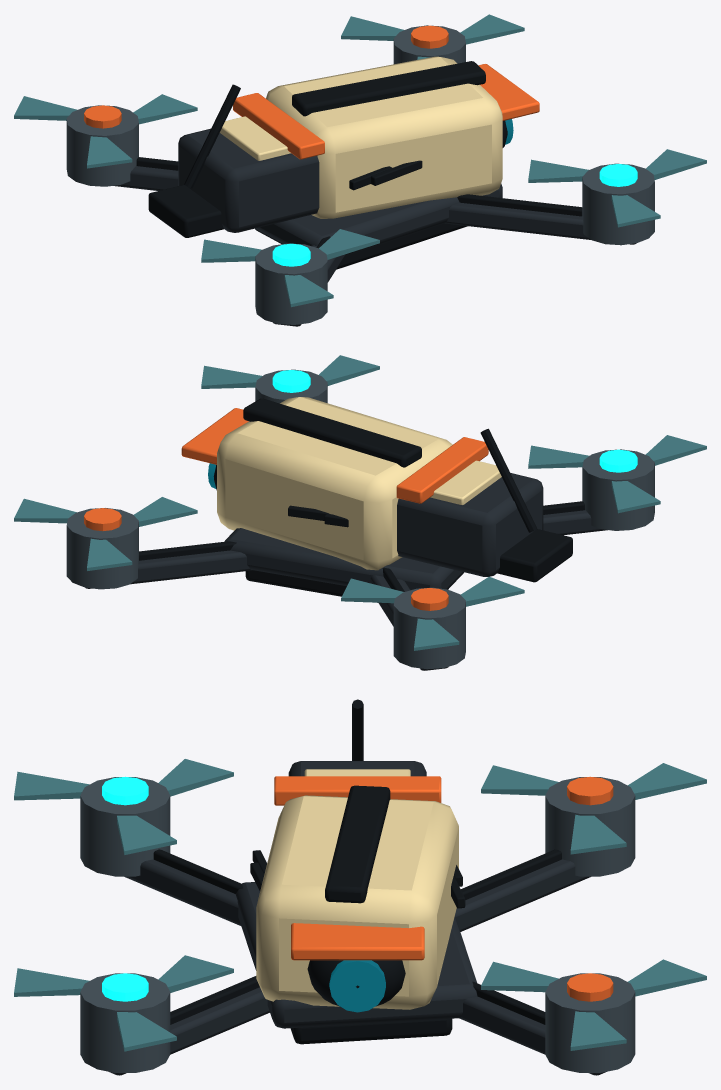
File: neon-quad.glb
3 views of the same model, one above another, from view 1: azimuth 30°, elevation 25°; view 2: azimuth 150°, elevation 25°; view 3: azimuth 270°, elevation 25° (orthographic). The views are drawn at different scales.
Parts seen in each view (by area): view 1: armored_canopy, battery_pack, central_carbon_plate, canopy_black_spine, motor_3, motor_1, motor_2, carbon_arm_1, tail_plate, orange_battery_strap, battery_cream_label, camera_orange_guard (+21 smaller); view 2: armored_canopy, battery_pack, central_carbon_plate, canopy_black_spine, motor_2, motor_0, motor_3, tail_plate, orange_battery_strap, carbon_arm_0, battery_cream_label, camera_orange_guard (+21 smaller); view 3: armored_canopy, central_carbon_plate, motor_1, motor_0, motor_3, motor_2, canopy_black_spine, camera_orange_guard, carbon_arm_2, orange_battery_strap, carbon_arm_3, carbon_arm_1 (+27 smaller).
Boxes of the visible parts, bbox=[...] form: armored_canopy: bbox=[266, 56, 502, 218]; battery_pack: bbox=[178, 128, 319, 232]; central_carbon_plate: bbox=[255, 183, 502, 256]; canopy_black_spine: bbox=[292, 61, 485, 116]; motor_3: bbox=[255, 243, 327, 324]; motor_1: bbox=[582, 163, 654, 245]; motor_2: bbox=[66, 105, 138, 186]; carbon_arm_1: bbox=[445, 202, 636, 244]; tail_plate: bbox=[148, 185, 223, 237]; orange_battery_strap: bbox=[233, 93, 324, 159]; battery_cream_label: bbox=[219, 116, 290, 160]; camera_orange_guard: bbox=[478, 64, 539, 120]; armored_canopy: bbox=[217, 397, 452, 570]; battery_pack: bbox=[397, 473, 543, 576]; central_carbon_plate: bbox=[224, 528, 463, 590]; canopy_black_spine: bbox=[243, 398, 421, 467]; motor_2: bbox=[393, 587, 465, 669]; motor_0: bbox=[66, 508, 138, 589]; motor_3: bbox=[582, 449, 654, 530]; tail_plate: bbox=[497, 529, 572, 582]; orange_battery_strap: bbox=[396, 437, 488, 503]; carbon_arm_0: bbox=[85, 550, 252, 588]; battery_cream_label: bbox=[430, 460, 501, 504]; camera_orange_guard: bbox=[181, 408, 248, 464]; armored_canopy: bbox=[256, 795, 458, 1009]; central_carbon_plate: bbox=[235, 882, 477, 1028]; motor_1: bbox=[80, 973, 170, 1072]; motor_0: bbox=[545, 973, 635, 1072]; motor_3: bbox=[80, 777, 170, 876]; motor_2: bbox=[545, 777, 635, 876]; canopy_black_spine: bbox=[325, 785, 390, 903]; camera_orange_guard: bbox=[291, 923, 424, 960]; carbon_arm_2: bbox=[455, 859, 590, 931]; orange_battery_strap: bbox=[274, 776, 441, 805]; carbon_arm_3: bbox=[124, 859, 240, 925]; carbon_arm_1: bbox=[109, 987, 269, 1075].
Size of the model in its own units: 0.9417 by 0.3263 by 0.954.
